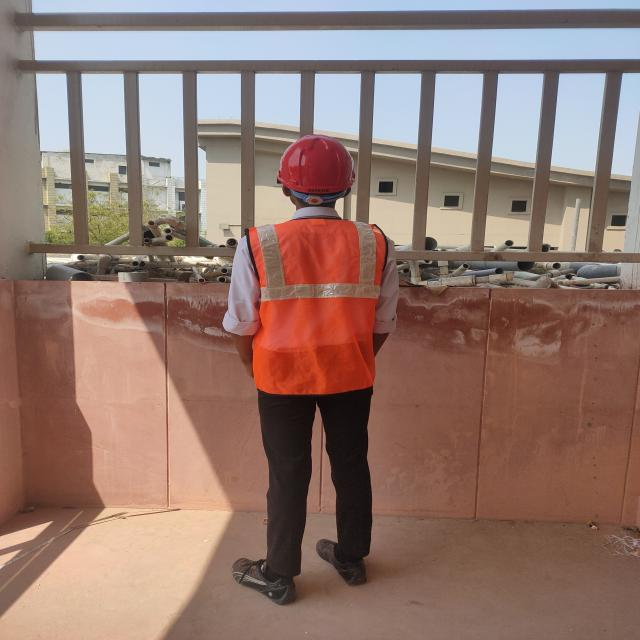safe: (228, 135, 402, 603)
